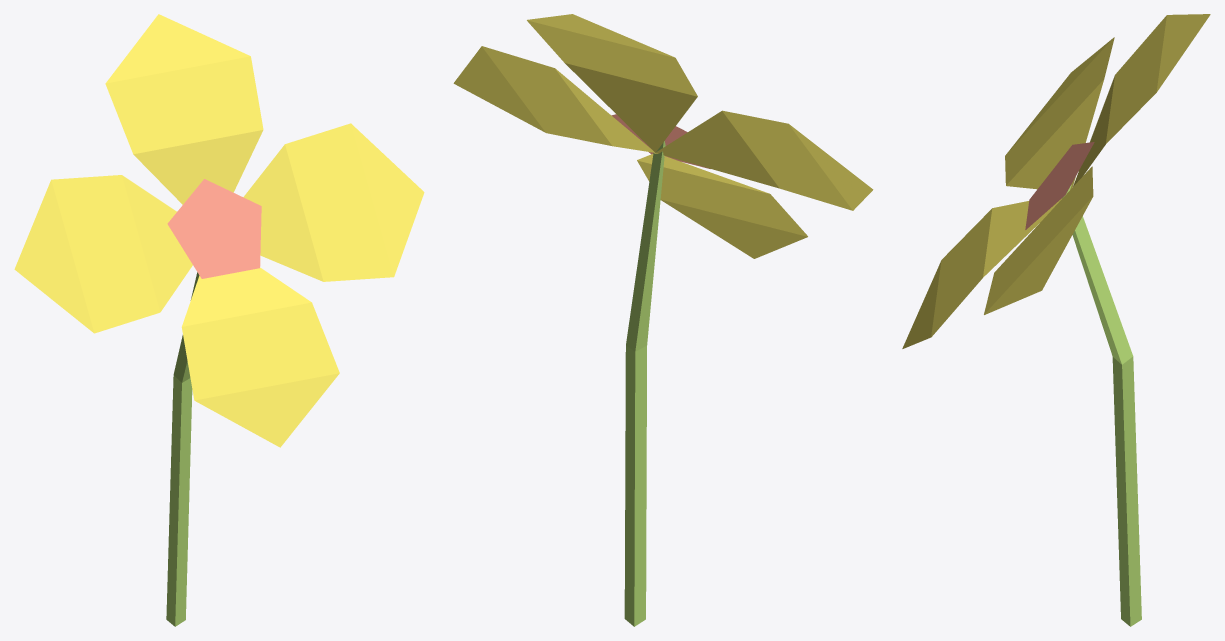
File: Flower_d_TwoS_04.fbx
3 views of the same model, side by side, from view 1: azimuth 30°, elevation 25°; view 2: azimuth 150°, elevation 25°; view 3: azimuth 270°, elevation 25° (orthographic). The views are drawn at different scales.
Visible parts, largest first — view 1: Flower_d_TwoS_04; view 2: Flower_d_TwoS_04; view 3: Flower_d_TwoS_04.
Part boxes in pixels (x1=…): Flower_d_TwoS_04: x1=14, y1=14, x2=424, y2=626; Flower_d_TwoS_04: x1=453, y1=14, x2=873, y2=626; Flower_d_TwoS_04: x1=902, y1=14, x2=1210, y2=626.
Bounding box in the file's own units: 0.2563 × 0.356 × 0.1611.
